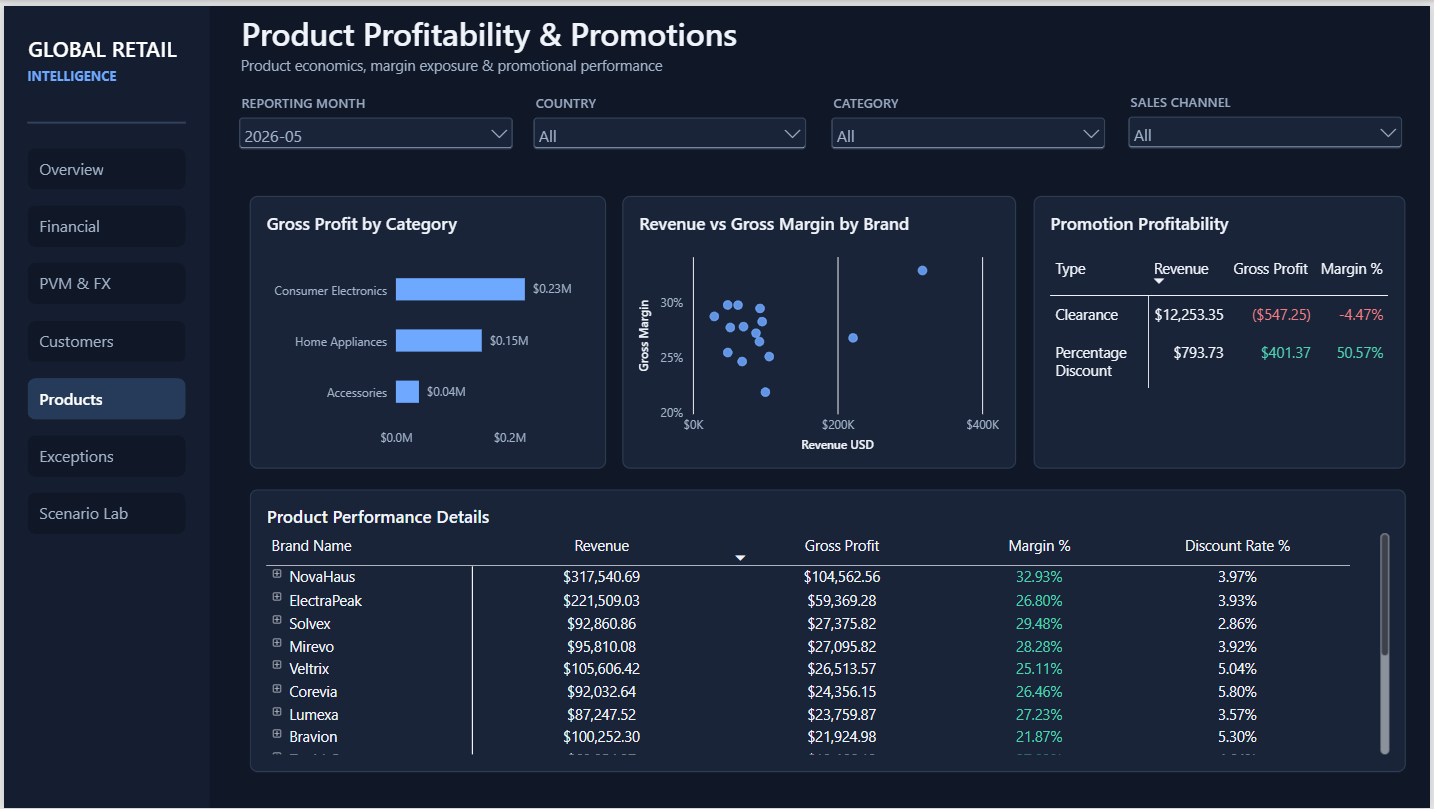

This screenshot's page, from the dashboard's own definition file:
{"tool":"powerbi","page":{"name":"Products","canvas":[1440,810],"ordinal":4},"visuals":[{"type":"shape","title":"Sidebar Background","box":[0,0,208,810],"z":0},{"type":"textbox","title":"Sidebar Brand Title","box":[24.1,28,168,30],"z":1000},{"type":"textbox","title":"Sidebar Brand Subtitle","box":[24,60,168,22],"z":2000},{"type":"shape","title":"Line","box":[24,112,160,12],"z":3000},{"type":"pageNavigator","box":[24,144,160,392],"z":4000},{"type":"textbox","title":"Header Page Title","box":[240,5.6,648.9,53.3],"z":5000},{"type":"textbox","title":"Header Subtitle","box":[238.9,50,650,27.8],"z":6000},{"type":"slicer","fields":{"Values":["DimDate.YearMonth"]},"box":[232.1,87.9,287.4,63.2],"z":7000},{"type":"slicer","fields":{"Values":["DimCountry.country_name"]},"box":[529.4,87.9,286.4,63.2],"z":8000},{"type":"slicer","fields":{"Values":["DimCategory.category_name"]},"box":[829.6,87.9,287.4,63.2],"z":9000},{"type":"slicer","fields":{"Values":["DimSalesChannel.sales_channel_name"]},"box":[1129.9,86.9,287.4,64.2],"z":10000},{"type":"clusteredBarChart","title":"Gross Profit by Category","fields":{"Category":["DimCategory.category_name"],"Y":["_Measures.Global Gross Profit USD"]},"box":[248,192,360,275],"z":11000},{"type":"scatterChart","title":"Revenue vs Gross Margin by Brand","fields":{"Category":["DimProduct.brand_name"],"X":["_Measures.Global Revenue USD"],"Y":["_Measures.Global Gross Margin %"]},"box":[624.4,192.2,397.8,275.6],"z":12000},{"type":"pivotTable","title":"Promotion Profitability","fields":{"Rows":["DimPromotion.promotion_type"],"Values":["_Measures.Global Revenue USD","_Measures.Global Gross Profit USD","_Measures.Global Gross Margin %"]},"box":[1040,192,376,275],"z":13000},{"type":"pivotTable","title":"Product Performance Details","fields":{"Rows":["DimProduct.brand_name","DimProduct.product_name"],"Values":["_Measures.Global Revenue USD","_Measures.Global Gross Profit USD","_Measures.Global Gross Margin %","_Measures.Global Discount Rate %"]},"box":[248,488,1168,285],"z":14000}]}

Visuals, with their boxes in screenshot pixels (x1, y1, x2, y2), scaled from the page's 1440x810 canvas onto the 1434x809 screenshot:
"Sidebar Background" shape: [x1=0, y1=0, x2=207, y2=808]
"Sidebar Brand Title" textbox: [x1=24, y1=28, x2=191, y2=58]
"Sidebar Brand Subtitle" textbox: [x1=24, y1=60, x2=191, y2=82]
"Line" shape: [x1=24, y1=112, x2=183, y2=124]
pageNavigator: [x1=24, y1=144, x2=183, y2=535]
"Header Page Title" textbox: [x1=239, y1=6, x2=885, y2=59]
"Header Subtitle" textbox: [x1=238, y1=50, x2=885, y2=78]
slicer - DimDate.YearMonth: [x1=231, y1=88, x2=517, y2=151]
slicer - DimCountry.country_name: [x1=527, y1=88, x2=812, y2=151]
slicer - DimCategory.category_name: [x1=826, y1=88, x2=1112, y2=151]
slicer - DimSalesChannel.sales_channel_name: [x1=1125, y1=87, x2=1411, y2=151]
"Gross Profit by Category" clusteredBarChart: [x1=247, y1=192, x2=605, y2=466]
"Revenue vs Gross Margin by Brand" scatterChart: [x1=622, y1=192, x2=1018, y2=467]
"Promotion Profitability" pivotTable: [x1=1036, y1=192, x2=1410, y2=466]
"Product Performance Details" pivotTable: [x1=247, y1=487, x2=1410, y2=772]
